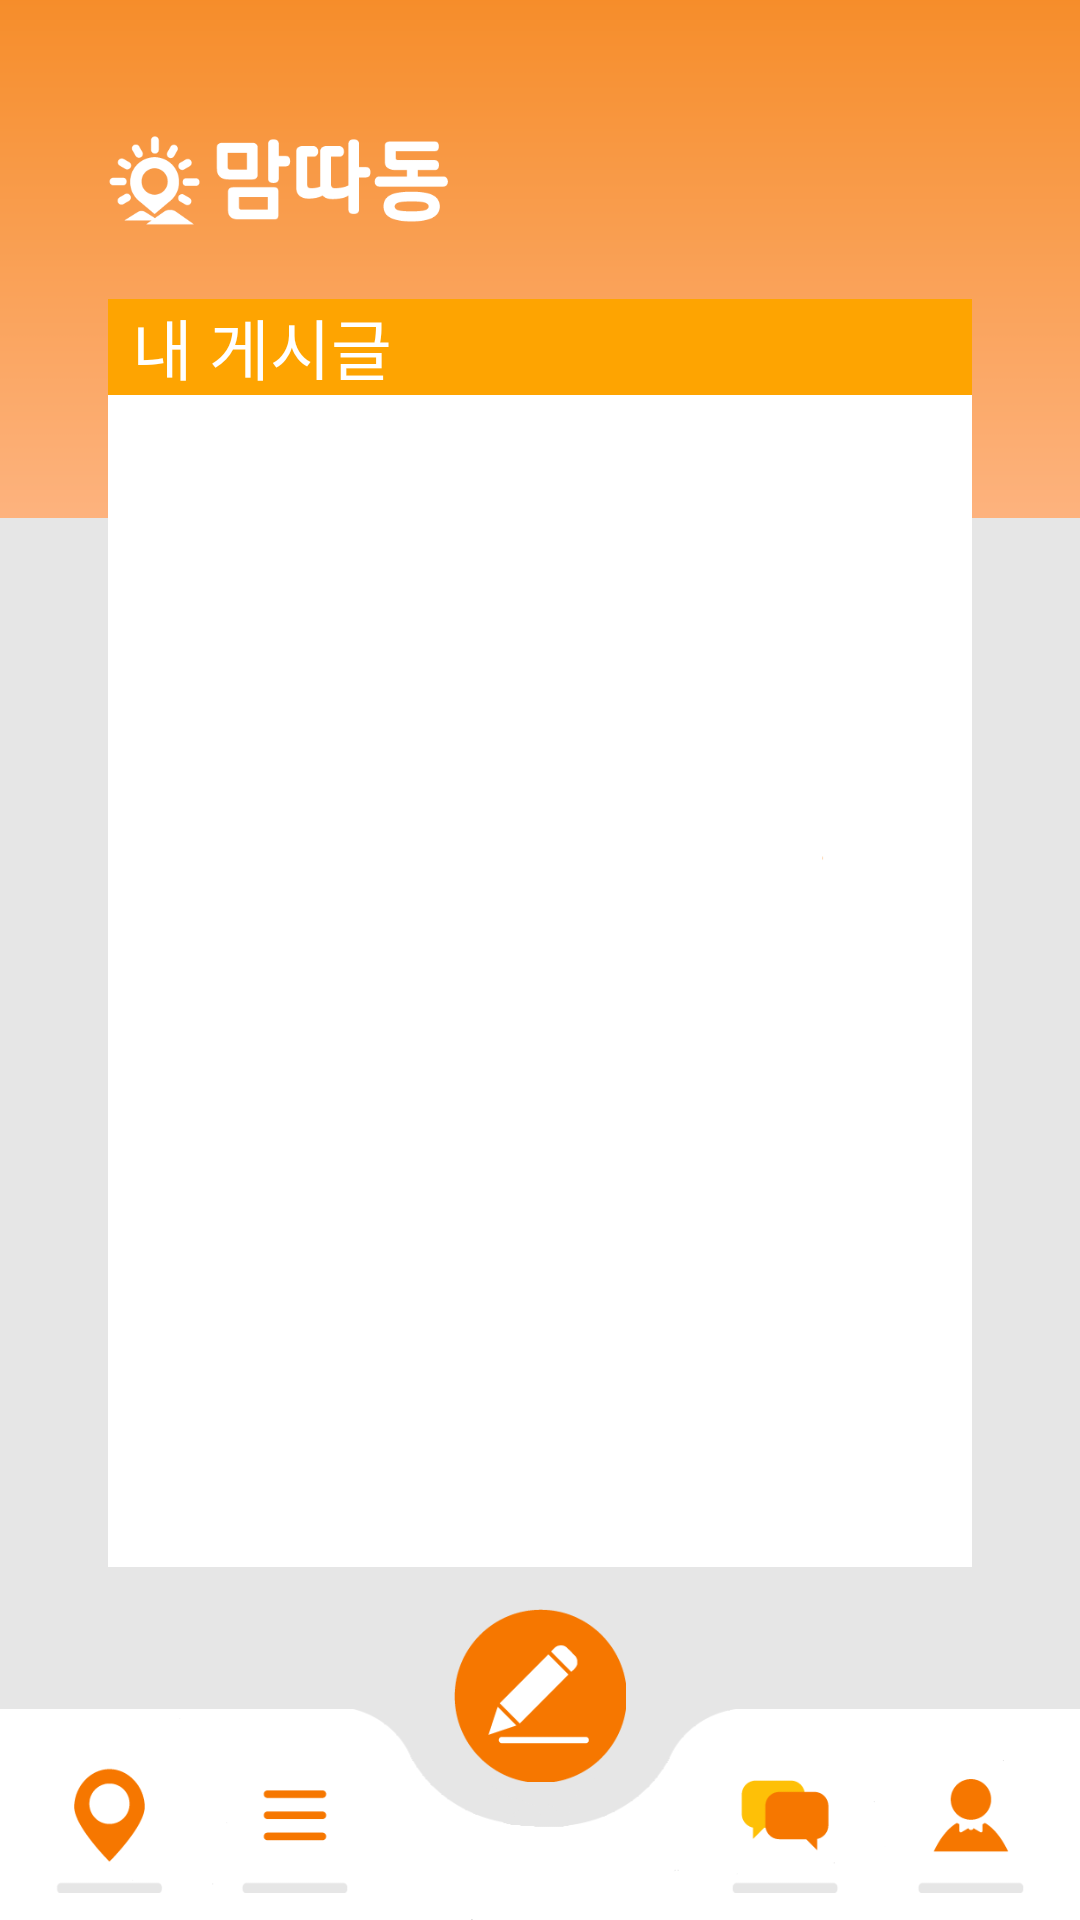

Where icons sit on this 1080x1920 app screen, as [x1=x1, y1=y1, x2=x2, y2=y2]:
category: [x1=243, y1=1790, x2=347, y2=1893]
chat: [x1=733, y1=1780, x2=837, y2=1893]
map: [x1=58, y1=1768, x2=161, y2=1893]
profile: [x1=919, y1=1779, x2=1023, y2=1893]
write: [x1=454, y1=1609, x2=626, y2=1782]
